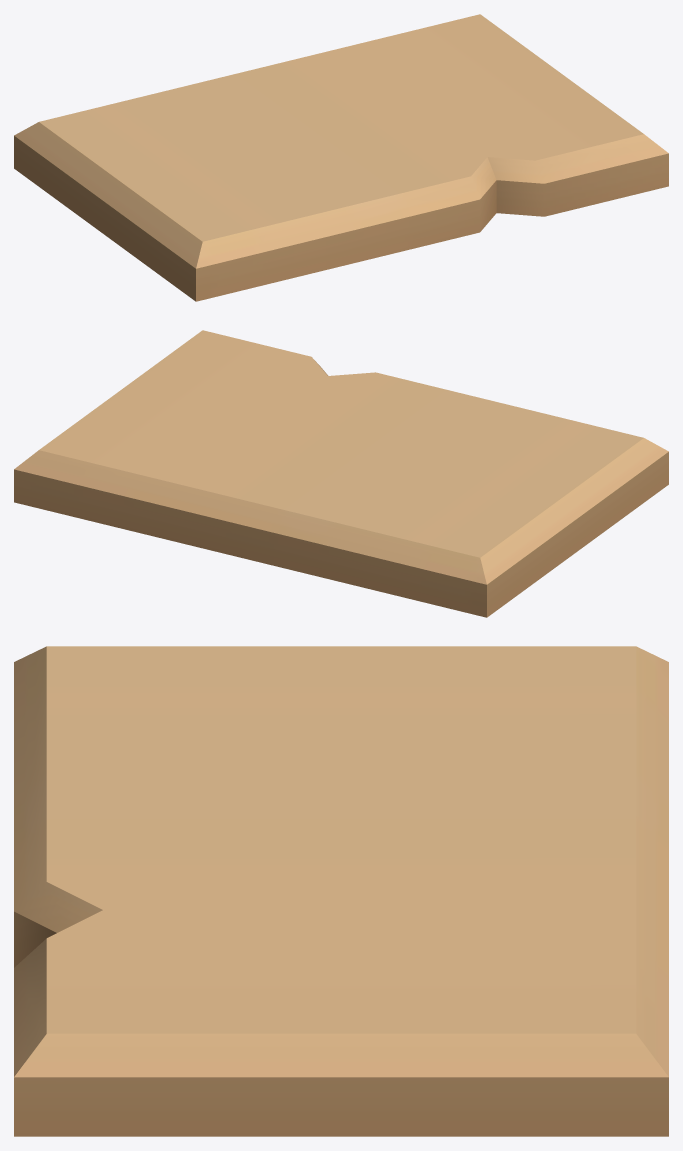
File: skarbrada.glb
The picture shows the model from 3 angles, top to bottom: view 1: azimuth 30°, elevation 25°; view 2: azimuth 150°, elevation 25°; view 3: azimuth 270°, elevation 25°; orthographic projection. The views are drawn at different scales.
Visible parts, largest first — view 1: cuttingboard; view 2: cuttingboard; view 3: cuttingboard.
Boxes of the visible parts, <box> form: cuttingboard: <box>14,14,668,301</box>; cuttingboard: <box>14,330,668,617</box>; cuttingboard: <box>14,646,668,1136</box>.
Bounding box in the file's own units: 1.5 × 0.15 × 1.
1 material, 1 textured.
